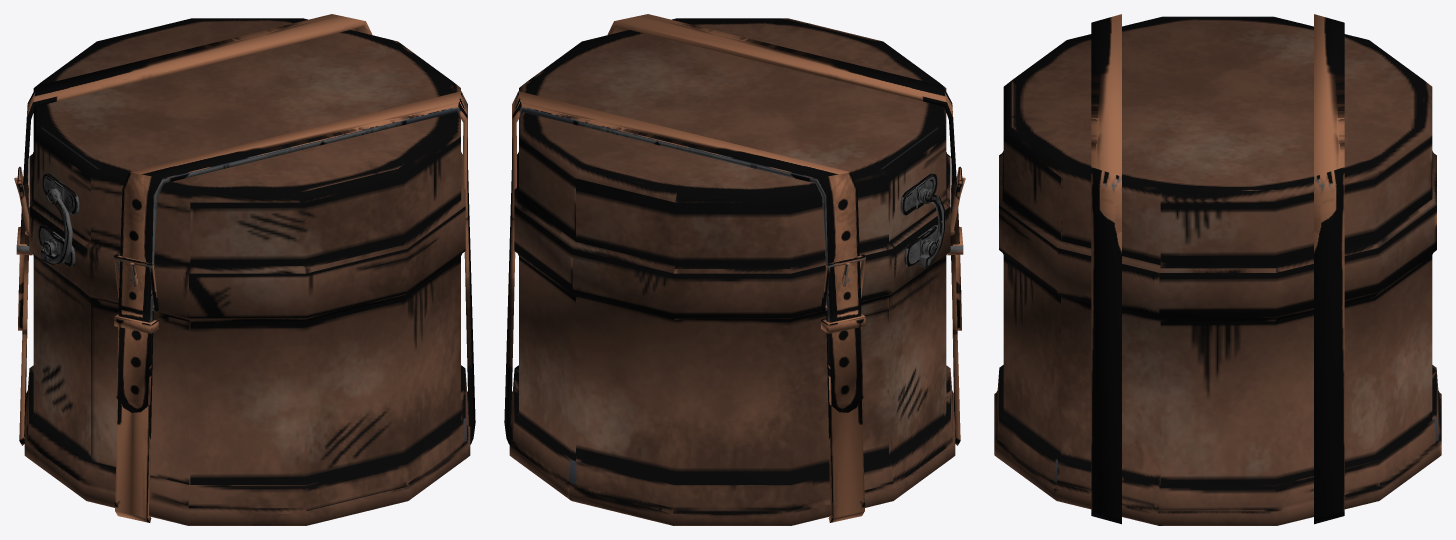
File: O_Pack_hat.fbx
3 renders of one model, left to right at view 1: azimuth 30°, elevation 25°; view 2: azimuth 150°, elevation 25°; view 3: azimuth 270°, elevation 25°, orthographic.
Visible parts, largest first — view 1: Circle.006, Circle.007, Circle.009; view 2: Circle.006, Circle.007, Circle.009; view 3: Circle.006, Circle.007.
Boxes of the visible parts, x1,y1,x2,y2 form: Circle.006: (24,18,470,525); Circle.007: (14,14,475,522); Circle.009: (38,173,79,266); Circle.006: (509,18,955,525); Circle.007: (504,14,965,522); Circle.009: (900,173,945,268); Circle.006: (994,16,1441,525); Circle.007: (1091,14,1344,524).
Size of the model in its own units: 28.34 by 23.48 by 27.76.
1 material, 1 textured.
